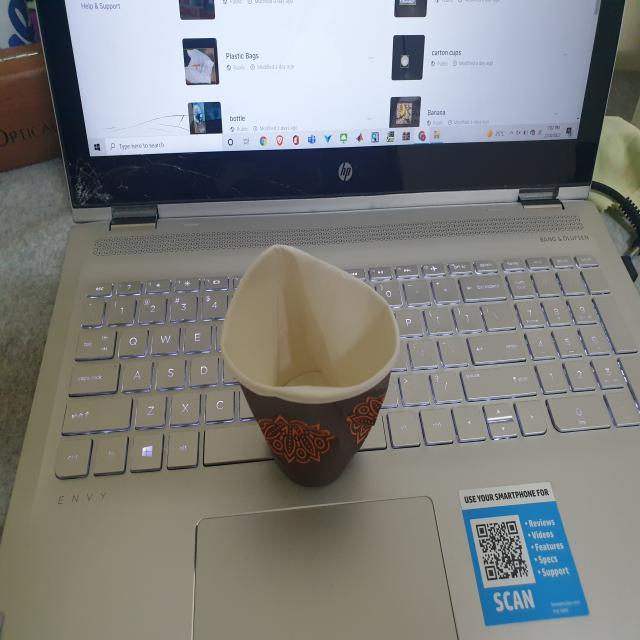cups: (215, 238, 402, 495)
